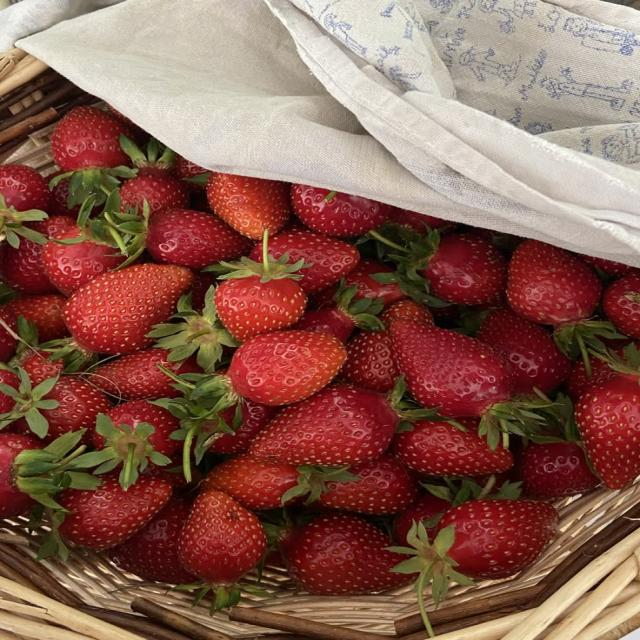strawberry: (390, 320, 548, 448), (392, 499, 557, 606), (507, 240, 619, 361), (250, 385, 399, 465), (64, 263, 193, 354), (391, 321, 512, 416), (280, 514, 412, 594), (370, 228, 506, 305), (180, 490, 266, 606), (214, 235, 306, 341), (439, 500, 557, 579), (516, 394, 600, 499), (227, 331, 346, 405), (50, 107, 137, 207), (0, 432, 99, 519), (59, 475, 171, 550), (507, 240, 601, 326), (476, 309, 571, 394), (93, 400, 180, 489), (148, 288, 239, 373), (109, 499, 196, 583), (575, 376, 639, 489), (393, 418, 513, 476), (146, 207, 252, 269), (316, 452, 417, 514), (422, 233, 506, 305), (86, 348, 201, 400), (269, 228, 359, 294), (42, 227, 126, 296), (293, 281, 384, 343), (200, 454, 298, 510), (207, 173, 290, 239), (292, 184, 392, 236), (52, 107, 130, 171), (41, 376, 112, 442), (520, 442, 599, 499), (106, 400, 179, 456), (0, 165, 49, 247), (0, 433, 44, 518), (210, 399, 279, 453), (340, 329, 399, 392), (340, 331, 399, 392), (0, 294, 68, 342), (0, 239, 59, 294), (120, 172, 188, 219), (394, 493, 452, 545), (345, 259, 406, 306), (602, 271, 639, 339), (0, 164, 49, 212), (120, 136, 175, 177), (567, 359, 619, 402), (292, 307, 354, 343), (388, 207, 455, 233), (19, 350, 64, 386), (380, 299, 434, 325), (174, 154, 210, 191), (47, 178, 80, 218), (187, 272, 218, 313), (578, 254, 635, 276), (0, 308, 17, 362), (0, 369, 19, 390)
